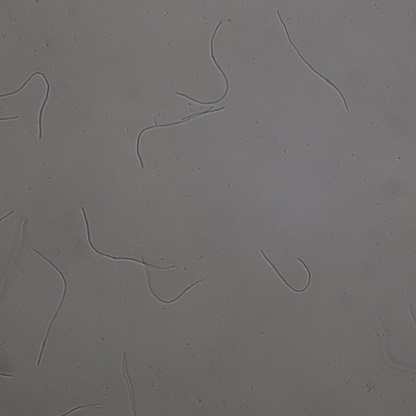Sensitive: (278, 12, 349, 111), (83, 207, 176, 273), (136, 107, 224, 169), (176, 21, 230, 105), (33, 249, 68, 365), (1, 72, 49, 139), (142, 256, 208, 303), (261, 249, 312, 293), (63, 403, 102, 416)
